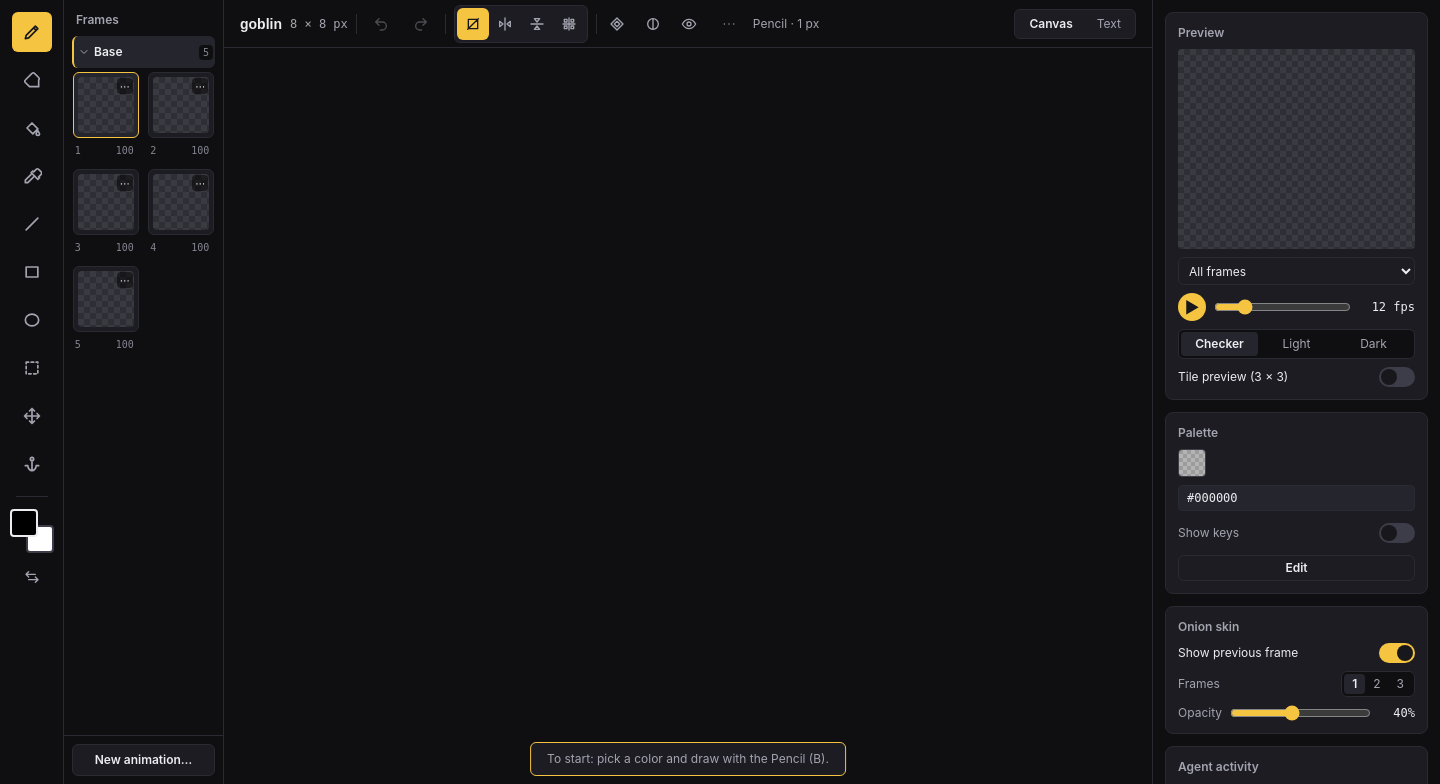
New animation › shows the core's name_exists error in the dialog
Click the button "New animation…": click(144, 760) [72,744,215,776]
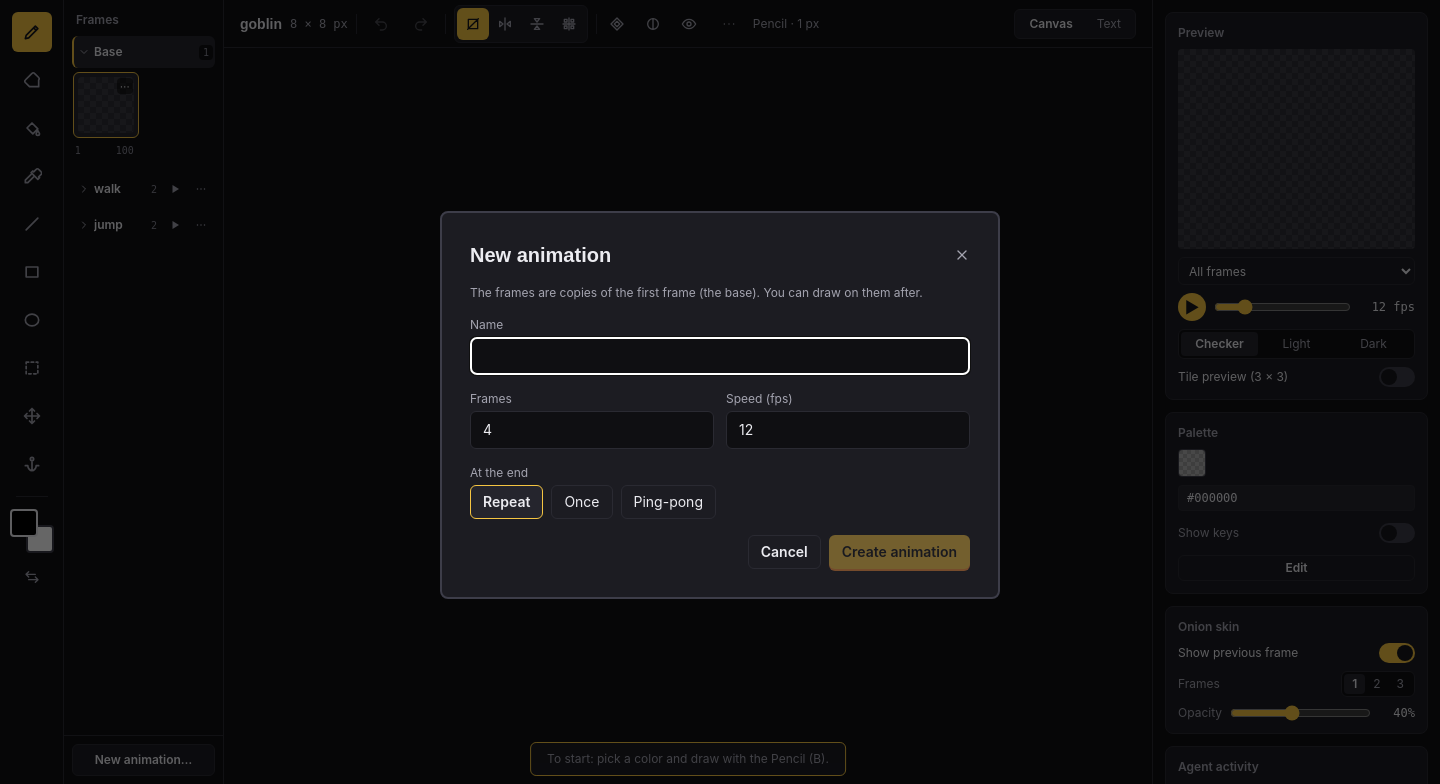
In the field labelled "Name": (720, 356) [470,337,970,375], type "run"
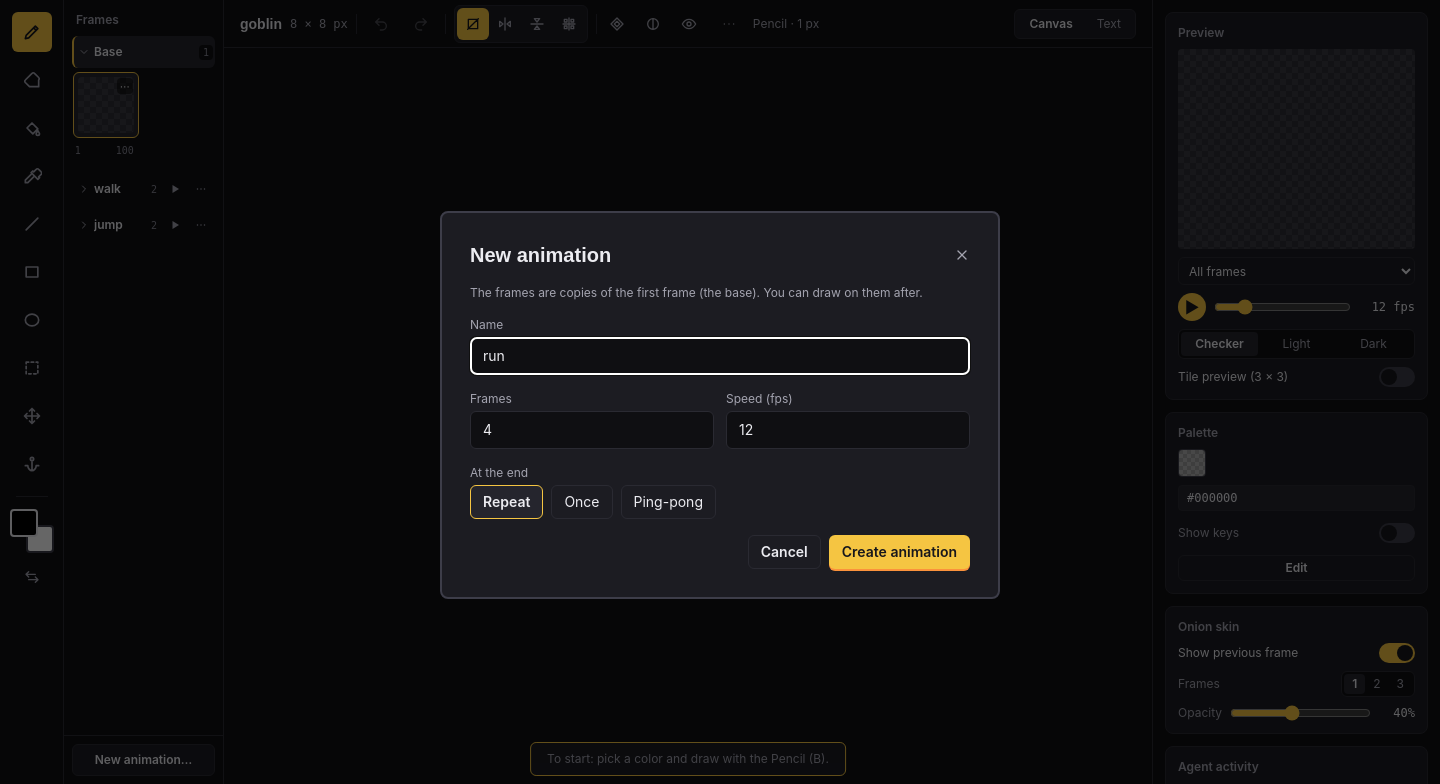
Click the button "Create animation": click(899, 552) [829,535,970,569]
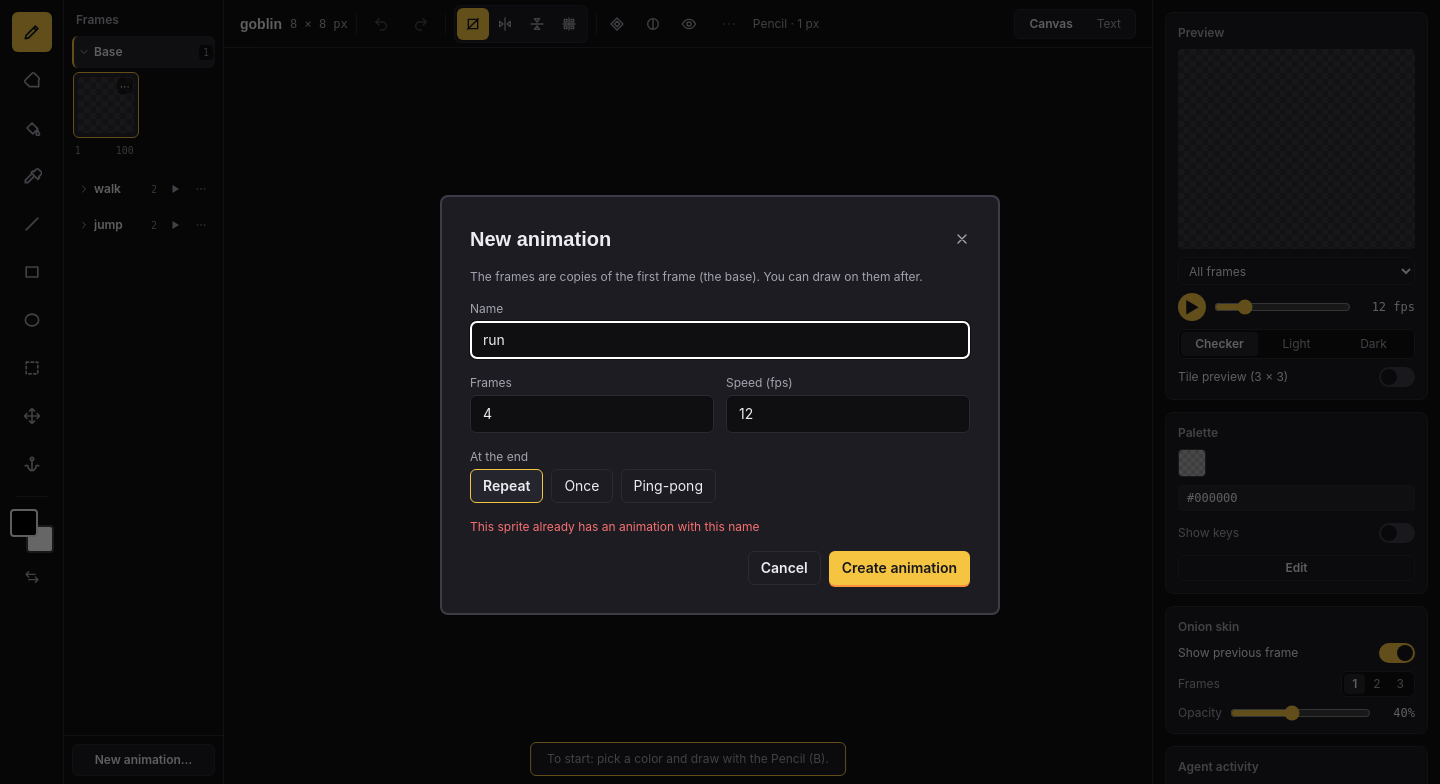
Check: the message reads "This sprite already has an animation with this name", box [470,519,760,534]
